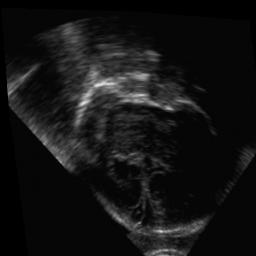abnormal: (63, 74, 234, 244)
